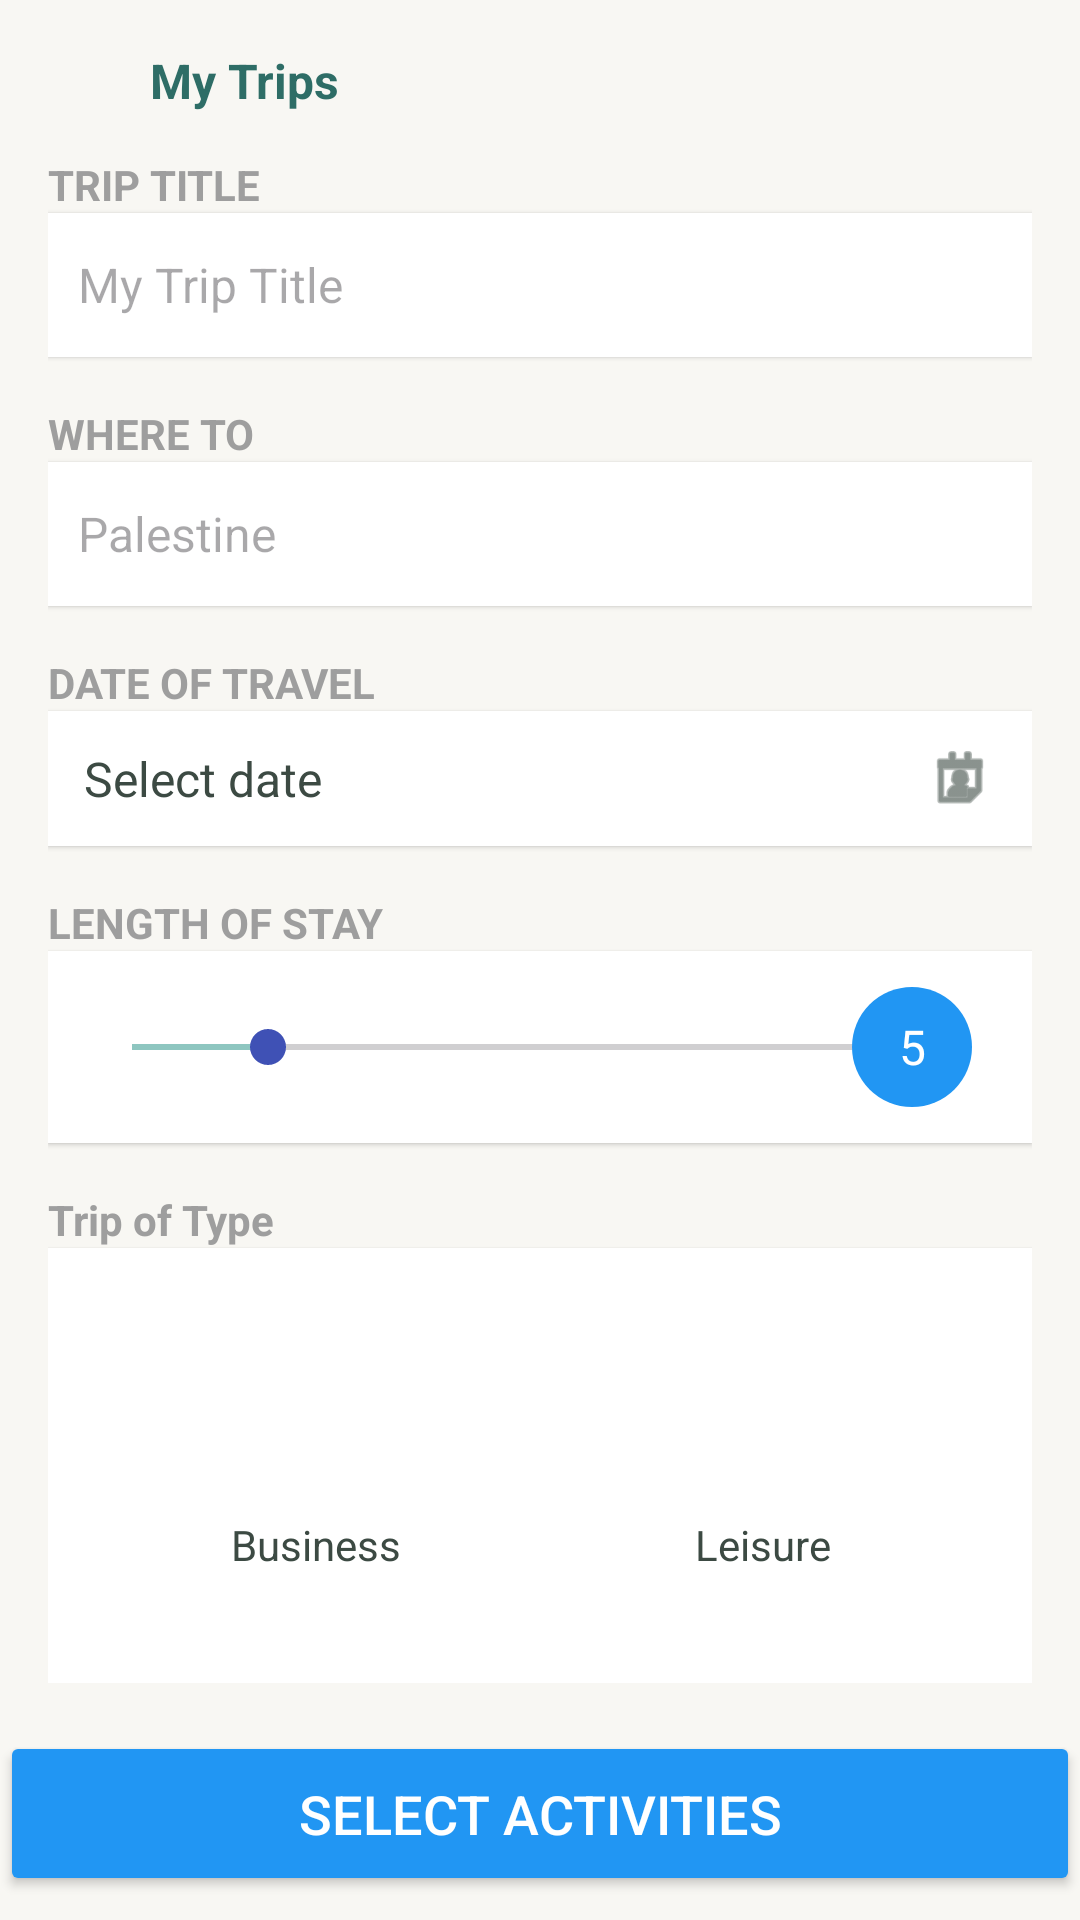

Named icons in this screenshot (1080*1920) and their bounding boxes, (x1,y1,x2,y2):
calendar: (937,751,983,804)
